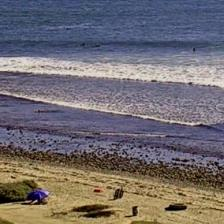surfer: (93, 45, 100, 47), (79, 44, 85, 46), (193, 48, 195, 51)
